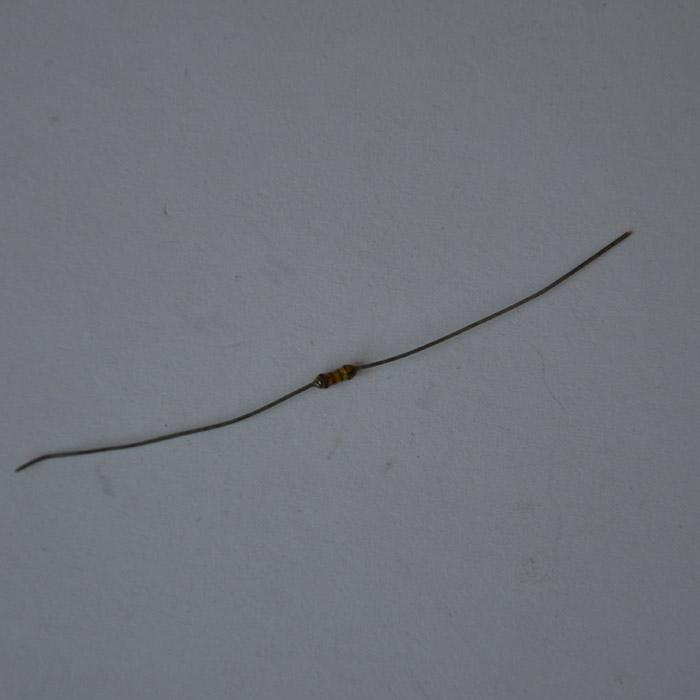resistor: (313, 361, 361, 395)
